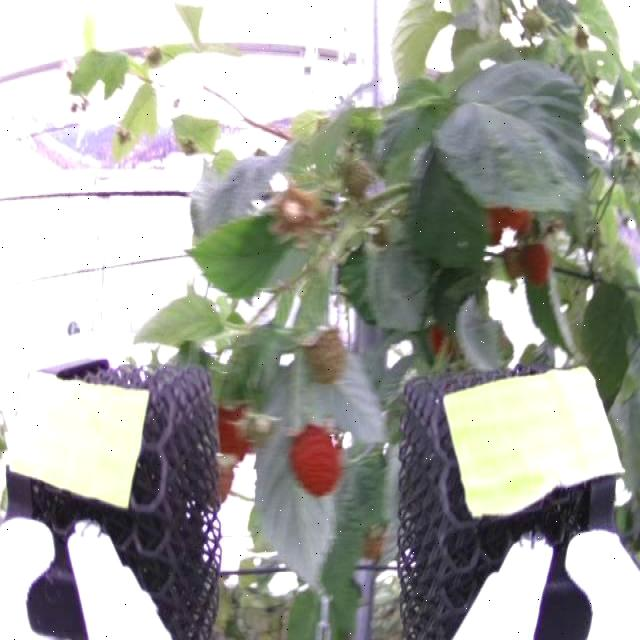Riped berries: (282, 415, 348, 497), (212, 391, 256, 458), (486, 190, 528, 242), (524, 240, 560, 286)
